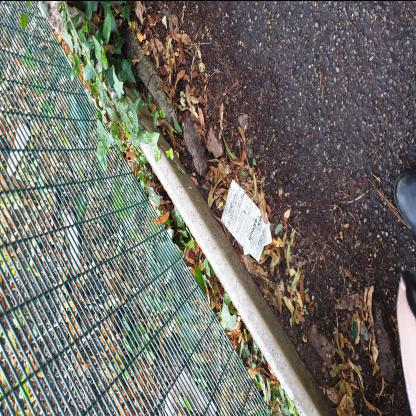kagit: (223, 181, 273, 261)
